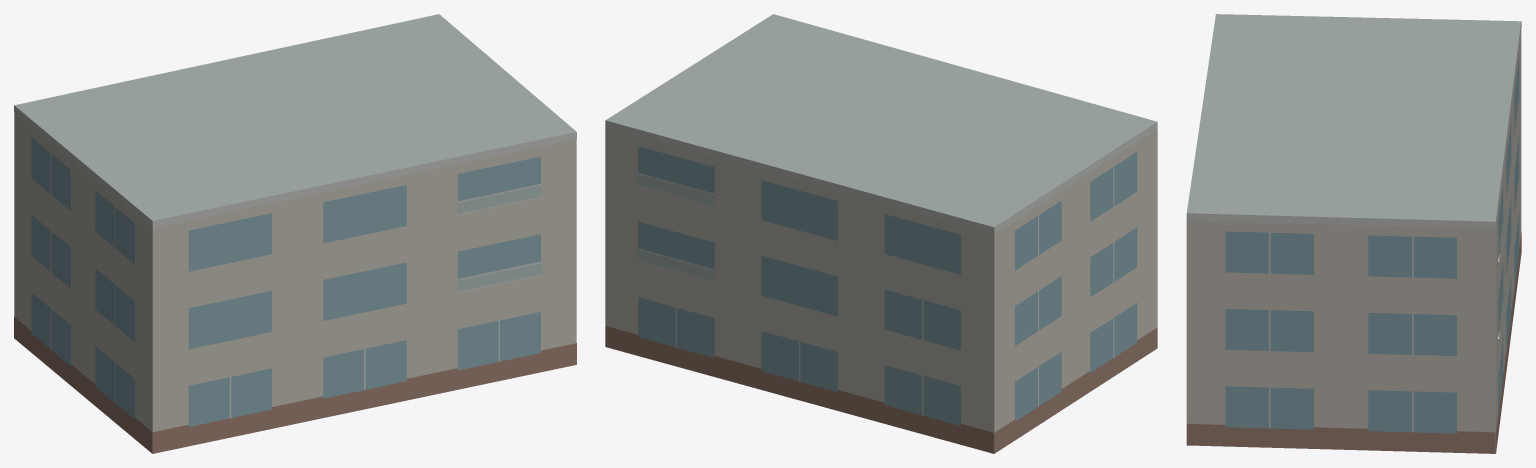
The model's file is survey-upis-32972846.glb.
The picture shows the model from 3 angles, left to right: view 1: azimuth 30°, elevation 25°; view 2: azimuth 150°, elevation 25°; view 3: azimuth 270°, elevation 25°; orthographic projection. The views are drawn at different scales.
Visible parts, largest first — view 1: survey-upis-32972846.tmp; view 2: survey-upis-32972846.tmp; view 3: survey-upis-32972846.tmp.
Part boxes in pixels (bbox=[...]): survey-upis-32972846.tmp: bbox=[14, 14, 576, 453]; survey-upis-32972846.tmp: bbox=[605, 14, 1157, 453]; survey-upis-32972846.tmp: bbox=[1186, 14, 1521, 453].
Bounding box in the file's own units: 14.73 × 7.67 × 10.03.
